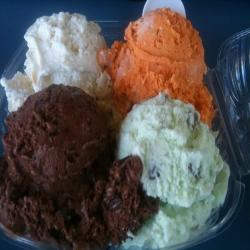icecream: (1, 84, 145, 250), (103, 11, 227, 129), (113, 95, 233, 210), (12, 14, 119, 116)
